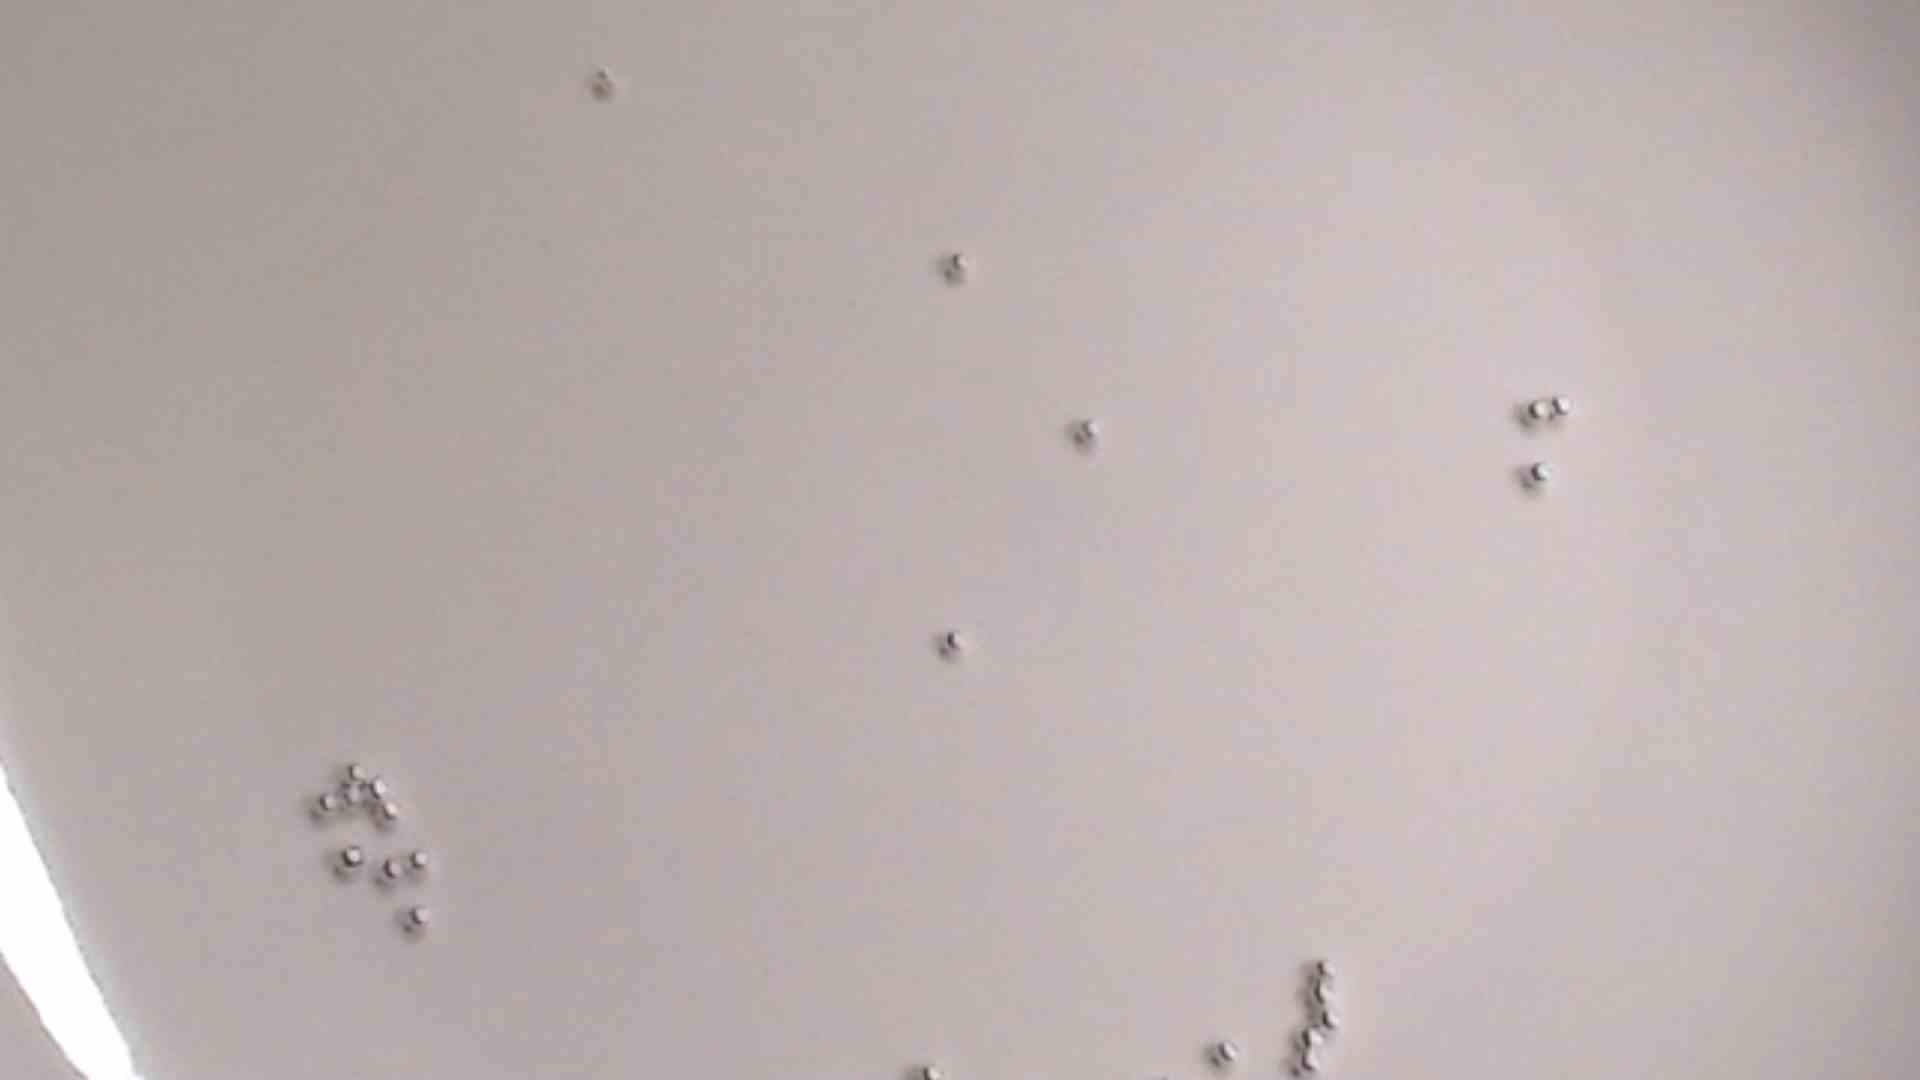chocolate: (1304, 947, 1349, 988), (585, 61, 625, 104), (939, 245, 978, 289), (1299, 976, 1342, 1015), (396, 899, 436, 940), (334, 841, 371, 884), (400, 845, 440, 882), (1309, 1004, 1352, 1039), (305, 783, 343, 822), (1520, 459, 1557, 498), (1208, 1033, 1247, 1069), (1518, 396, 1556, 431), (1290, 1021, 1329, 1055), (934, 625, 971, 661), (1071, 411, 1106, 447), (1545, 389, 1581, 425), (334, 756, 371, 790), (373, 855, 407, 891), (360, 775, 396, 808), (1292, 1048, 1329, 1080), (371, 804, 407, 836), (334, 789, 367, 816), (910, 1058, 945, 1080)
